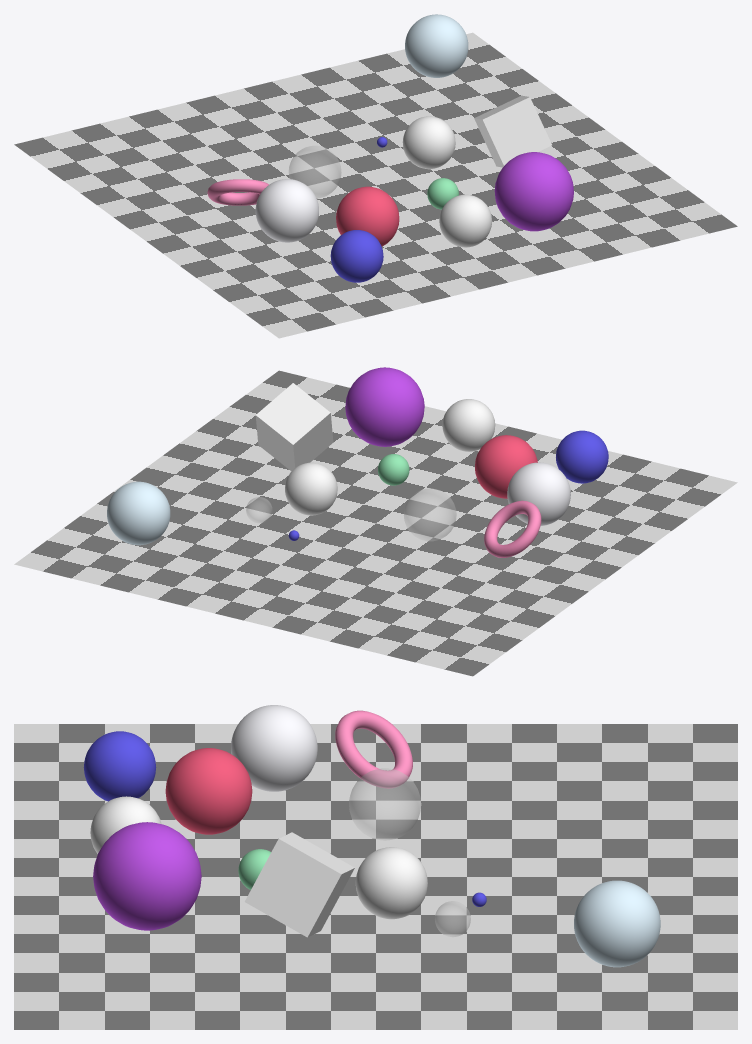
File: VkRaytraceScene.glb
3 renders of one model, top to bottom at view 1: azimuth 30°, elevation 25°; view 2: azimuth 150°, elevation 25°; view 3: azimuth 270°, elevation 25°, orthographic. The views are drawn at different scales.
Parts seen in each view (by area): view 1: floor, sphere2.003, cube.001, 球.001, 球, sphere2.002, sphere2, sphere2.001, sphere2.006, sphere1, torus.001, sphere2.004; view 2: floor, sphere2.003, cube.001, 球.001, 球, sphere2.002, sphere2, sphere2.006, sphere2.001, sphere1, torus.001, sphere2.004 (+1 smaller); view 3: floor, sphere2.003, cube.001, 球.001, sphere2.002, 球, sphere2, sphere1, sphere2.006, torus.001, sphere2.001, sphere1.001 (+1 smaller).
Boxes of the visible parts, box(x1,y1,x2,y2) form: floor: box(14, 32, 737, 338); sphere2.003: box(494, 152, 573, 231); cube.001: box(474, 95, 551, 167); 球.001: box(405, 14, 468, 77); 球: box(255, 179, 318, 242); sphere2.002: box(336, 186, 399, 246); sphere2: box(402, 116, 455, 169); sphere2.001: box(439, 194, 491, 247); sphere2.006: box(330, 230, 383, 282); sphere1: box(289, 146, 341, 198); torus.001: box(207, 179, 268, 205); sphere2.004: box(427, 178, 458, 209); floor: box(14, 370, 737, 676); sphere2.003: box(345, 367, 424, 446); cube.001: box(255, 383, 333, 471); 球.001: box(107, 481, 170, 545); 球: box(507, 462, 570, 525); sphere2.002: box(475, 435, 537, 498); sphere2: box(285, 462, 337, 515); sphere2.006: box(556, 430, 608, 483); sphere2.001: box(442, 399, 495, 451); sphere1: box(404, 489, 456, 540); torus.001: box(484, 500, 541, 557); sphere2.004: box(378, 454, 409, 485); floor: box(14, 724, 737, 1029); sphere2.003: box(93, 822, 201, 930); cube.001: box(244, 832, 354, 937); 球.001: box(574, 880, 660, 967); sphere2.002: box(165, 748, 252, 834); 球: box(231, 705, 317, 791); sphere2: box(355, 847, 427, 919); sphere1: box(349, 768, 420, 840); sphere2.006: box(83, 731, 156, 801); torus.001: box(335, 710, 412, 788); sphere2.001: box(90, 796, 161, 853); sphere1.001: box(435, 901, 470, 936).
Bounding box in the file's own units: 20 × 3.57 × 20.
Materials: 12 (1 with a texture image).
